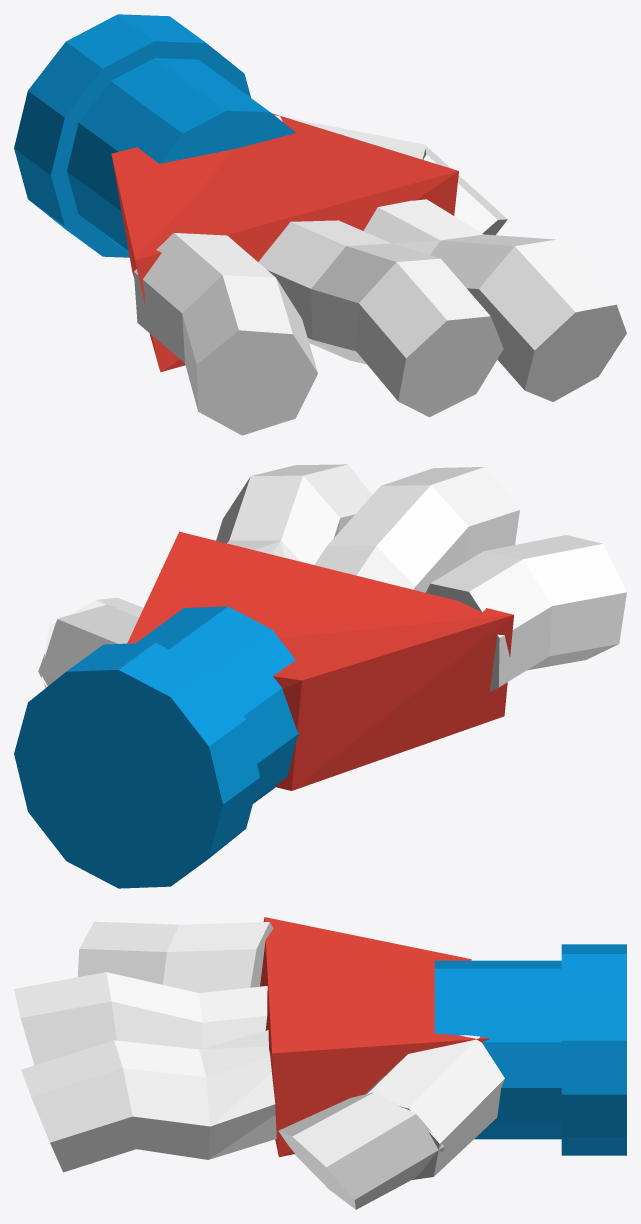
The picture shows the model from 3 angles, top to bottom: view 1: azimuth 30°, elevation 25°; view 2: azimuth 150°, elevation 25°; view 3: azimuth 270°, elevation 25°; orthographic projection. The views are drawn at different scales.
Parts seen in each view (by area): view 1: mesh_572324821, group_824559747, group_564625431, group_240084719, mesh_117267623, mesh_227893038, group_181952022, group_2055249827; view 2: mesh_572324821, mesh_227893038, group_564625431, group_824559747, mesh_117267623, group_240084719, group_2055249827, group_181952022; view 3: mesh_572324821, group_240084719, mesh_117267623, group_824559747, mesh_227893038, group_181952022, group_564625431, group_2055249827.
Boxes of the visible parts, <box> form: mesh_572324821: <box>111,113,458,372</box>; group_824559747: <box>258,220,503,417</box>; group_564625431: <box>134,233,317,435</box>; group_240084719: <box>363,199,626,401</box>; mesh_117267623: <box>67,58,295,253</box>; mesh_227893038: <box>14,14,250,257</box>; group_181952022: <box>422,146,507,235</box>; group_2055249827: <box>274,115,426,159</box>; mesh_572324821: <box>127,531,513,790</box>; mesh_227893038: <box>14,642,259,888</box>; group_564625431: <box>426,535,626,691</box>; group_824559747: <box>314,467,519,592</box>; mesh_117267623: <box>136,606,299,803</box>; group_240084719: <box>216,464,371,564</box>; group_2055249827: <box>38,604,138,687</box>; group_181952022: <box>41,597,143,686</box>; mesh_572324821: <box>260,917,489,1157</box>; group_240084719: <box>21,1030,276,1172</box>; mesh_117267623: <box>434,960,561,1139</box>; group_824559747: <box>14,972,267,1065</box>; mesh_227893038: <box>561,944,626,1155</box>; group_181952022: <box>278,1092,444,1209</box>; group_564625431: <box>78,921,273,992</box>; group_2055249827: <box>365,1035,504,1179</box>.
Bounding box in the file's own units: 27.11 × 13 × 37.61.
